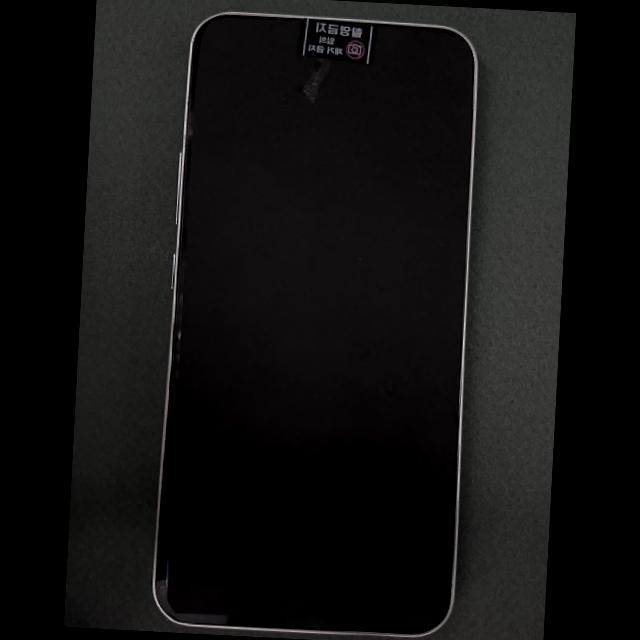phone: (153, 13, 477, 639)
sticker: (298, 18, 377, 65)
